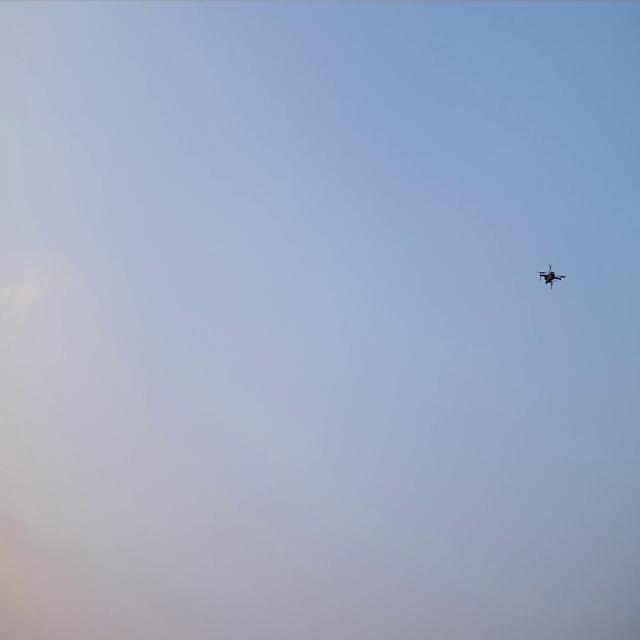UAV: (534, 262, 568, 291)
